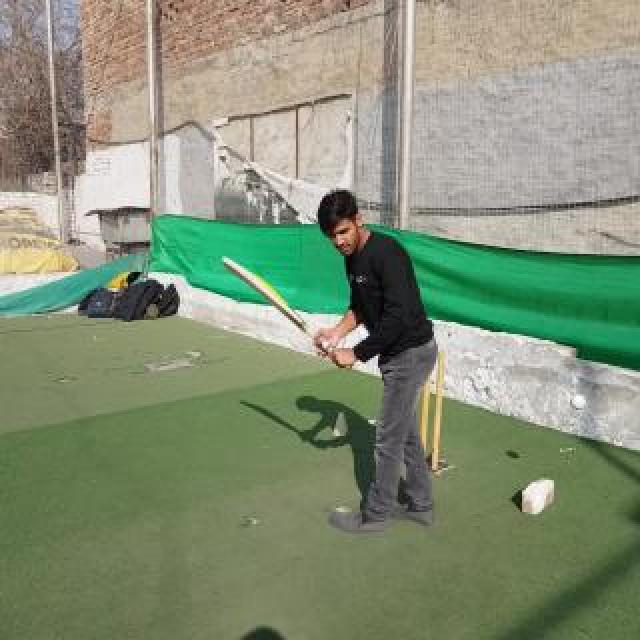ball: (570, 393, 586, 409)
bat: (221, 255, 353, 369)
